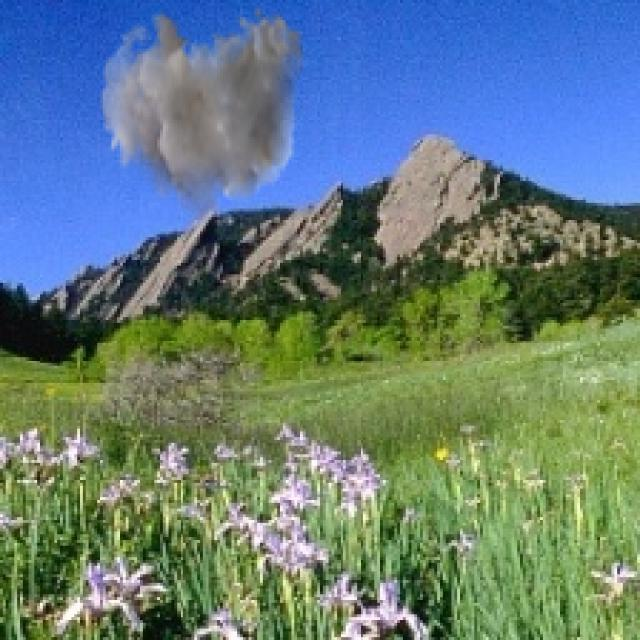Smoke: (100, 5, 306, 228)
